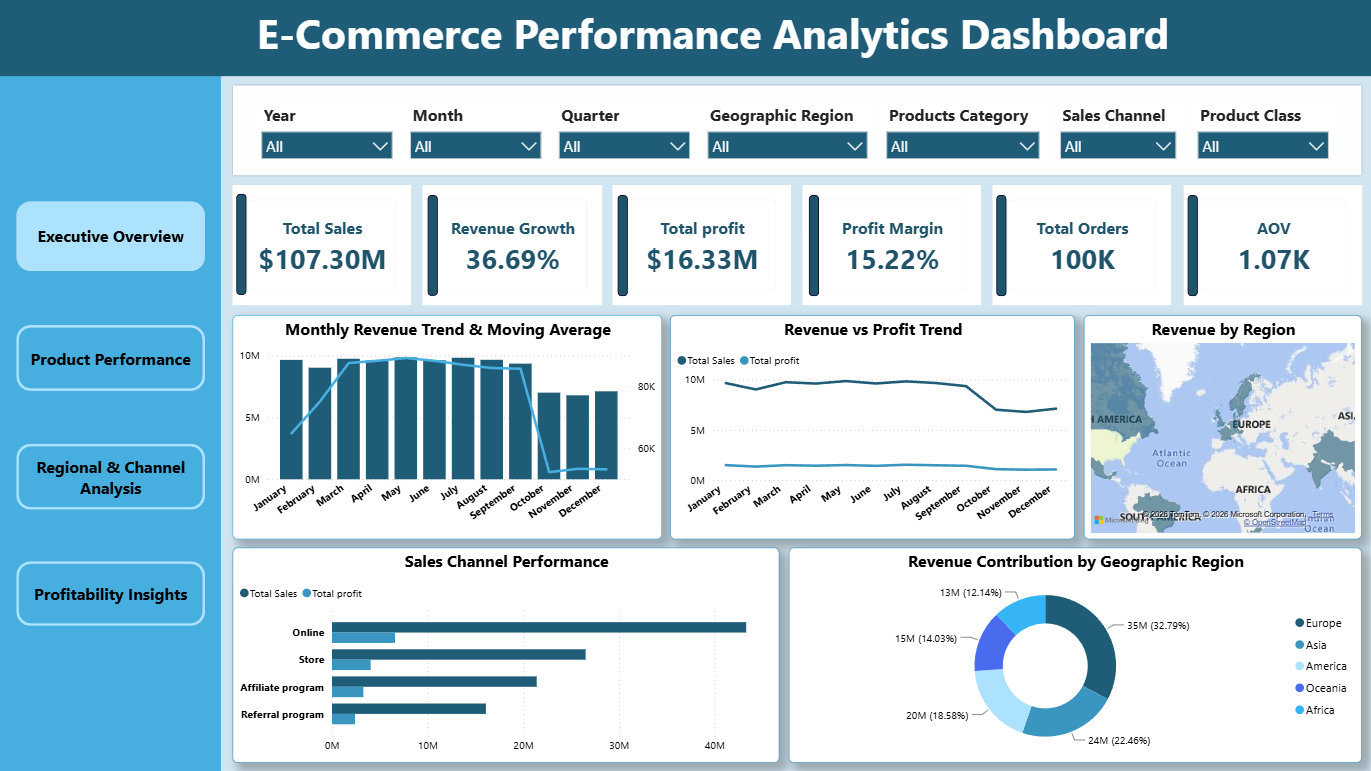

What the dashboard file says about the page in this screenshot:
{"tool":"powerbi","page":{"name":" Executive Overview","canvas":[1600,900],"ordinal":0},"visuals":[{"type":"group","id":"g1","title":"Group 1","box":[0,0,257.9,900.3],"z":0},{"type":"shape","box":[0,0,257.9,900.3],"z":0,"group":"g1"},{"type":"shape","box":[270.2,98,1319.5,108.6],"z":0,"group":"g2"},{"type":"cardVisual","fields":{"Data":["Measure table.Total Sales"]},"box":[270.8,215.6,208.1,140.2],"z":0,"group":"g3"},{"type":"cardVisual","fields":{"Data":["Measure table.Revenue Growth %"]},"box":[492.5,215.6,209.6,140.2],"z":0,"group":"g9"},{"type":"cardVisual","fields":{"Data":["Measure table.Total profit"]},"box":[713.9,215.6,208.1,140.2],"z":0,"group":"g5"},{"type":"cardVisual","fields":{"Data":["Measure table.Profit Margin %"]},"box":[935.9,215.6,208.1,140.2],"z":0,"group":"g7"},{"type":"cardVisual","fields":{"Data":["Measure table.Total Orders"]},"box":[1156.9,215.6,208.1,140.2],"z":0,"group":"g10"},{"type":"cardVisual","fields":{"Data":["Measure table.AOV"]},"box":[1379.9,215.6,208.1,140.2],"z":0,"group":"g8"},{"type":"shape","box":[0,0,1600,89],"z":1000,"group":"g6"},{"type":"slicer","fields":{"Values":["Date.Year"]},"box":[294.3,117.6,173.4,69.4],"z":1000,"group":"g2"},{"type":"shape","box":[274.9,226.2,12.1,118],"z":1000,"group":"g3"},{"type":"shape","box":[719.9,226.9,12.1,118],"z":1000,"group":"g5"},{"type":"shape","box":[1161.9,226.9,12.1,118],"z":1000,"group":"g10"},{"type":"shape","box":[498.9,227.7,12.1,117.6],"z":1000,"group":"g9"},{"type":"shape","box":[943.9,227.9,12.1,118],"z":1000,"group":"g7"},{"type":"shape","box":[1384.9,227.9,12.1,118],"z":1000,"group":"g8"},{"type":"actionButton","title":"ggggg","box":[19.6,235.3,220.2,81.4],"z":1000,"group":"g1"},{"type":"lineClusteredColumnComboChart","title":"Monthly Revenue Trend & Moving Average","fields":{"Y":["Measure table.Total Sales"],"Y2":["Measure table.Revenue MA 3M"],"Category":["Date.Month name"]},"box":[270.8,367,500.7,261.9],"z":1000},{"type":"slicer","fields":{"Values":["Region.Geographic Region"]},"box":[814.6,117.6,206.6,69.4],"z":2000,"group":"g2"},{"type":"lineChart","title":"Revenue vs Profit Trend","fields":{"Y":["Measure table.Total Sales","Measure table.Total profit"],"Category":["Date.Month name"]},"box":[780.4,367,472.2,261.9],"z":2000},{"type":"actionButton","box":[19.6,378.5,220.2,76.9],"z":2000,"group":"g1"},{"type":"slicer","fields":{"Values":["Date.Quarter No"]},"box":[641.2,117.6,173.4,69.4],"z":3000,"group":"g2"},{"type":"filledMap","title":"Revenue by Region","fields":{"Category":["Region.Country/Territory"]},"box":[1263.3,367,324.3,261.9],"z":3000},{"type":"actionButton","box":[19.6,517.3,220.2,76.9],"z":3000,"group":"g1"},{"type":"slicer","fields":{"Values":["Date.Month name"]},"box":[467.8,117.6,173.4,69.4],"z":4000,"group":"g2"},{"type":"clusteredBarChart","title":"Sales Channel Performance","fields":{"Category":["Sales Channel.Sales Channel"],"Y":["Measure table.Total Sales","Measure table.Total profit"]},"box":[270.8,637.9,637.9,251.2],"z":4000},{"type":"actionButton","box":[19.6,654.5,220.2,75.4],"z":4000,"group":"g1"},{"type":"slicer","fields":{"Values":["Sales Details.Sales Channel"]},"box":[1226.3,117.6,155.3,69.4],"z":5000,"group":"g2"},{"type":"donutChart","title":"Revenue Contribution by Geographic Region","fields":{"Y":["Measure table.Total Sales"],"Category":["Region.Geographic Region"]},"box":[919.4,637.9,668.2,251.2],"z":5000},{"type":"group","id":"g2","title":"Group 2","box":[270.2,98,1319.1,108.5],"z":6000},{"type":"slicer","fields":{"Values":["Products.Products Category"]},"box":[1024.3,117.6,199.1,69.4],"z":6000,"group":"g2"},{"type":"group","id":"g3","title":"Group 5","box":[270.8,215.6,208.1,140.2],"z":6000,"group":"g4"},{"type":"slicer","fields":{"Values":["Products.Product Class"]},"box":[1386.2,117.6,173.4,69.4],"z":7000,"group":"g2"},{"type":"group","id":"g4","title":"Group 3","box":[270.8,215.6,1316.7,140.8],"z":7000},{"type":"group","id":"g5","title":"Group 6","box":[713.9,215.6,208.1,140.2],"z":7000,"group":"g4"},{"type":"group","id":"g6","title":"Group 4","box":[0,0,1600,89],"z":8000},{"type":"group","id":"g7","title":"Group 7","box":[935.9,215.6,208.1,140.2],"z":8000,"group":"g4"},{"type":"group","id":"g8","title":"Group 8","box":[1379.9,215.6,208.1,140.2],"z":9000,"group":"g4"},{"type":"group","id":"g9","title":"Group 9","box":[492.5,215.6,209.6,140.2],"z":10000,"group":"g4"},{"type":"group","id":"g10","title":"Group 10","box":[1156.9,215.6,208.1,140.2],"z":11000,"group":"g4"},{"type":"textbox","box":[294.1,0,1109.9,89],"z":13000,"group":"g6"}]}

Visuals, with their boxes in screenshot pixels (x1, y1, x2, y2), scaled from the page's 1600x900 canvas onto the 1371x771 screenshot:
"Group 1" group: rect(0, 0, 221, 770)
shape: rect(0, 0, 221, 770)
shape: rect(232, 84, 1362, 177)
cardVisual - Measure table.Total Sales: rect(232, 185, 410, 305)
cardVisual - Measure table.Revenue Growth %: rect(422, 185, 602, 305)
cardVisual - Measure table.Total profit: rect(612, 185, 790, 305)
cardVisual - Measure table.Profit Margin %: rect(802, 185, 980, 305)
cardVisual - Measure table.Total Orders: rect(991, 185, 1170, 305)
cardVisual - Measure table.AOV: rect(1182, 185, 1361, 305)
shape: rect(0, 0, 1370, 76)
slicer - Date.Year: rect(252, 101, 401, 160)
shape: rect(236, 194, 246, 295)
shape: rect(617, 194, 627, 295)
shape: rect(996, 194, 1006, 295)
shape: rect(427, 195, 438, 296)
shape: rect(809, 195, 819, 296)
shape: rect(1187, 195, 1197, 296)
"ggggg" actionButton: rect(17, 202, 205, 271)
"Monthly Revenue Trend & Moving Average" lineClusteredColumnComboChart: rect(232, 314, 661, 539)
slicer - Region.Geographic Region: rect(698, 101, 875, 160)
"Revenue vs Profit Trend" lineChart: rect(669, 314, 1073, 539)
actionButton: rect(17, 324, 205, 390)
slicer - Date.Quarter No: rect(549, 101, 698, 160)
"Revenue by Region" filledMap: rect(1082, 314, 1360, 539)
actionButton: rect(17, 443, 205, 509)
slicer - Date.Month name: rect(401, 101, 549, 160)
"Sales Channel Performance" clusteredBarChart: rect(232, 546, 779, 762)
actionButton: rect(17, 561, 205, 625)
slicer - Sales Details.Sales Channel: rect(1051, 101, 1184, 160)
"Revenue Contribution by Geographic Region" donutChart: rect(788, 546, 1360, 762)
"Group 2" group: rect(232, 84, 1362, 177)
slicer - Products.Products Category: rect(878, 101, 1048, 160)
"Group 5" group: rect(232, 185, 410, 305)
slicer - Products.Product Class: rect(1188, 101, 1336, 160)
"Group 3" group: rect(232, 185, 1360, 305)
"Group 6" group: rect(612, 185, 790, 305)
"Group 4" group: rect(0, 0, 1370, 76)
"Group 7" group: rect(802, 185, 980, 305)
"Group 8" group: rect(1182, 185, 1361, 305)
"Group 9" group: rect(422, 185, 602, 305)
"Group 10" group: rect(991, 185, 1170, 305)
textbox: rect(252, 0, 1203, 76)
